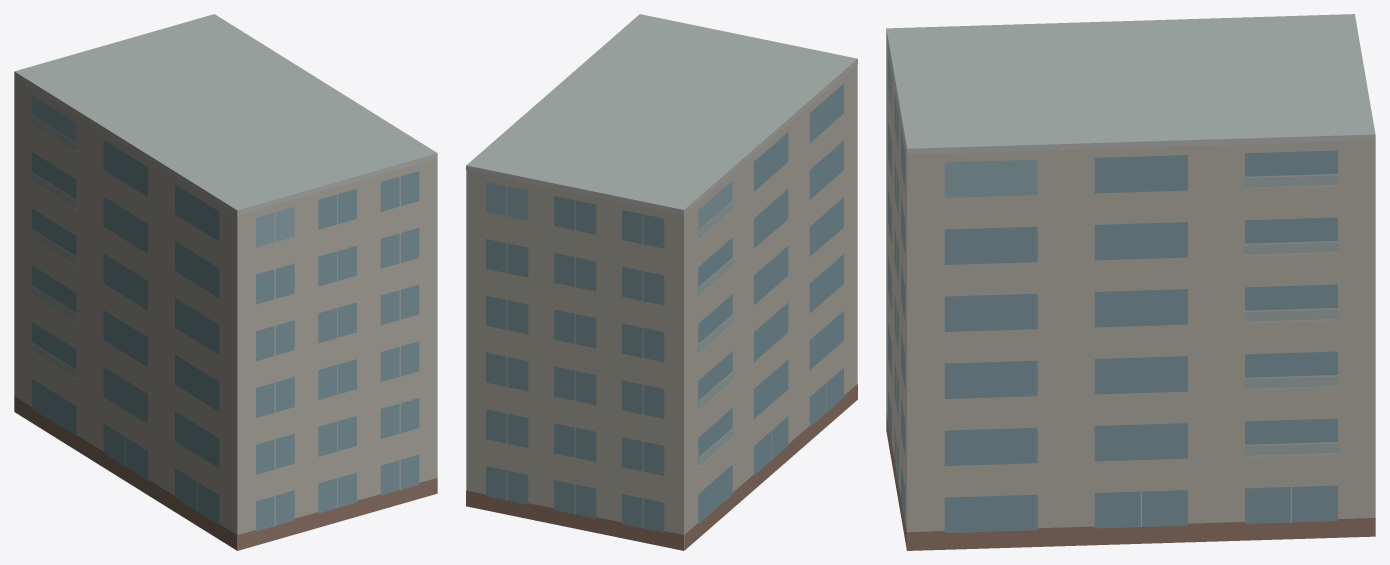
File: survey-upis-32908073.glb
3 views of the same model, side by side, from view 1: azimuth 30°, elevation 25°; view 2: azimuth 150°, elevation 25°; view 3: azimuth 270°, elevation 25° (orthographic). The views are drawn at different scales.
Visible parts, largest first — view 1: survey-upis-32908073.tmp; view 2: survey-upis-32908073.tmp; view 3: survey-upis-32908073.tmp.
Boxes of the visible parts, left/top/right/bottom form: survey-upis-32908073.tmp: left=14, top=14, right=437, bottom=550; survey-upis-32908073.tmp: left=466, top=14, right=857, bottom=550; survey-upis-32908073.tmp: left=886, top=14, right=1375, bottom=550.
Bounding box in the file's own units: 12.23 × 17 × 18.75.
